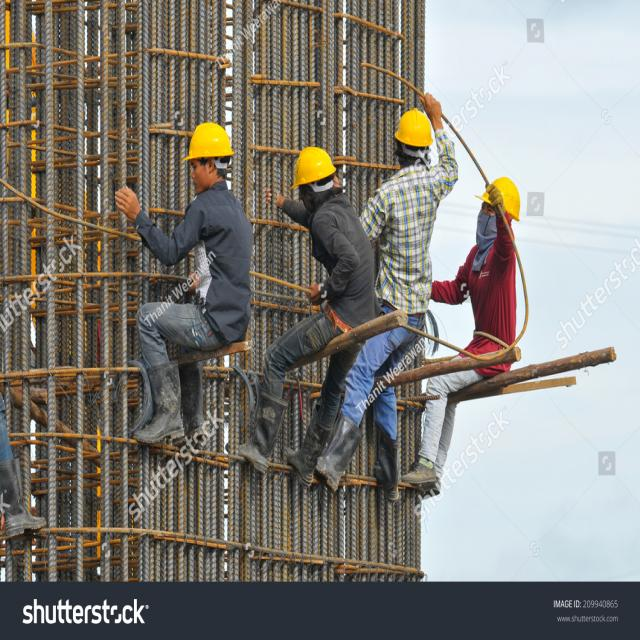gloves: (483, 182, 506, 219)
helmet: (182, 119, 237, 165), (288, 142, 337, 190), (477, 172, 522, 224), (392, 104, 436, 152)
